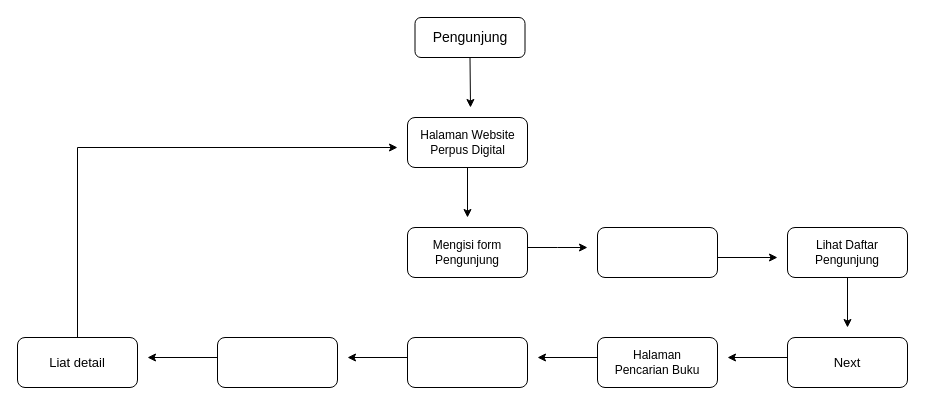
This 925x405 diagram has some shape labels left out. Here are the shapes that lost their labels. From the top down, the box of each, then its label:
(596, 226, 718, 278): Kirim
(216, 336, 338, 388): Hasil pencarian
(406, 336, 528, 388): Masukan kata kunci Judul Buku
